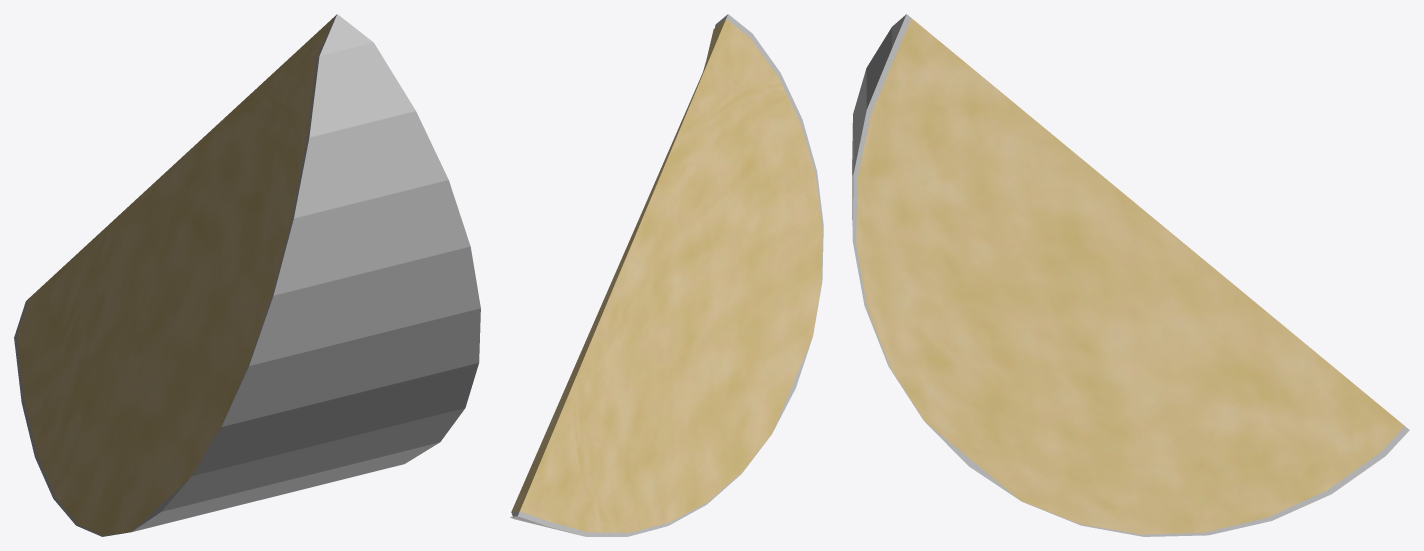
Rendered from Maça.fbx.
3 renders of one model, left to right at view 1: azimuth 30°, elevation 25°; view 2: azimuth 150°, elevation 25°; view 3: azimuth 270°, elevation 25°, orthographic. The views are drawn at different scales.
Visible parts, largest first — view 1: Maça; view 2: Maça; view 3: Maça.
Part boxes in pixels (x1,y1,x2,y2): Maça: [14, 14, 480, 536]; Maça: [510, 14, 823, 536]; Maça: [852, 14, 1409, 536].
Bounding box in the file's own units: 76.54 × 156 × 164.
